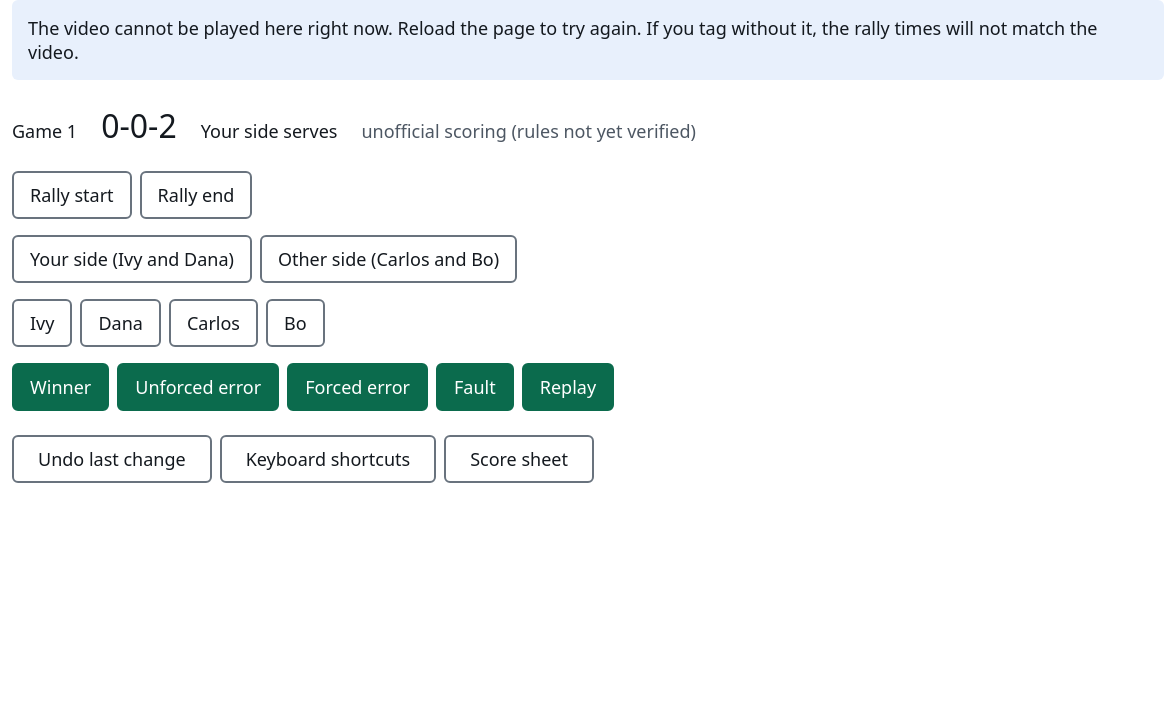
QuickTag (T-01) › a stale version shows the latest score and says the match changed
What coordinates should you click on to do the following:
click the button "Rally start"
I would click on:
 (72, 195)
Its box is [12, 171, 132, 219].
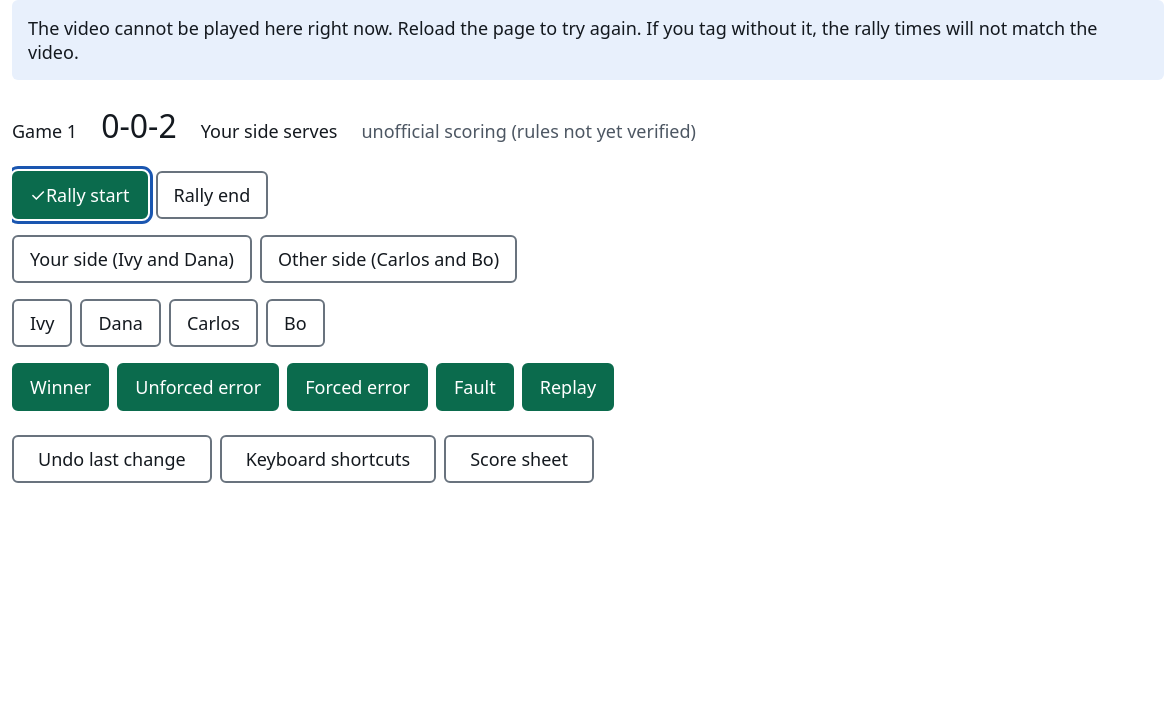
What coordinates should you click on to do the following:
click the button "Rally end"
I would click on:
 (212, 195)
Its box is [156, 171, 268, 219].
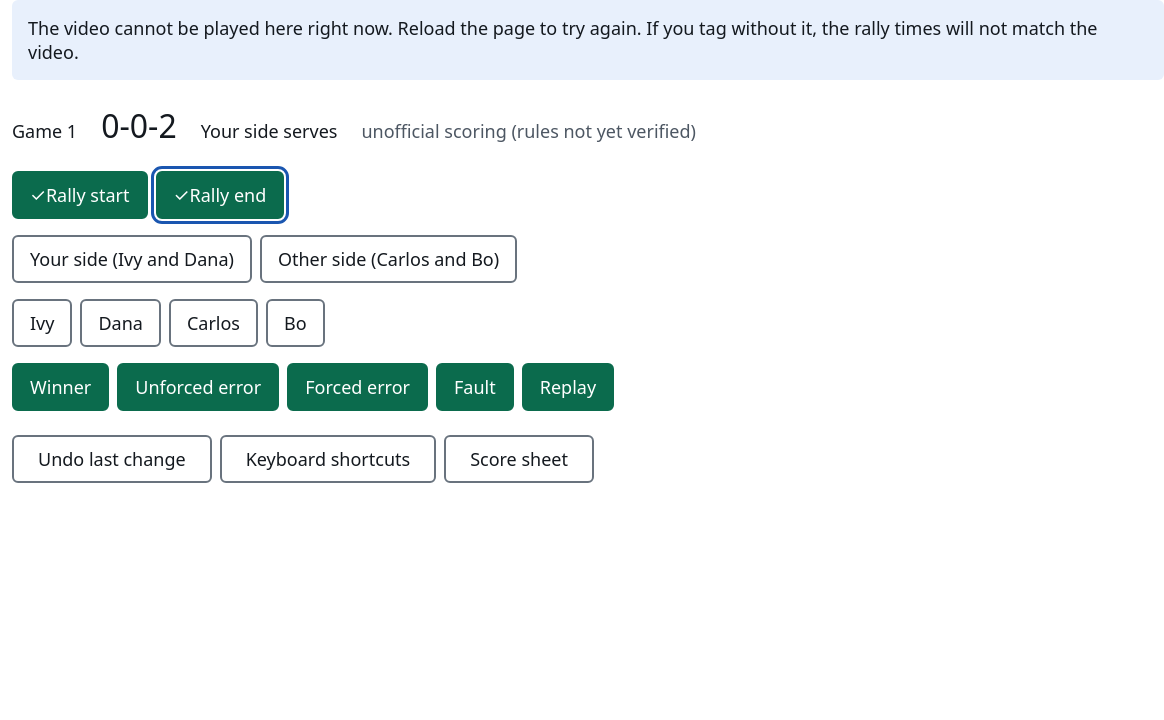
What coordinates should you click on to do the following:
click the button "Your side (Ivy and Dana)"
I would click on:
 (132, 259)
Its box is [12, 235, 252, 283].
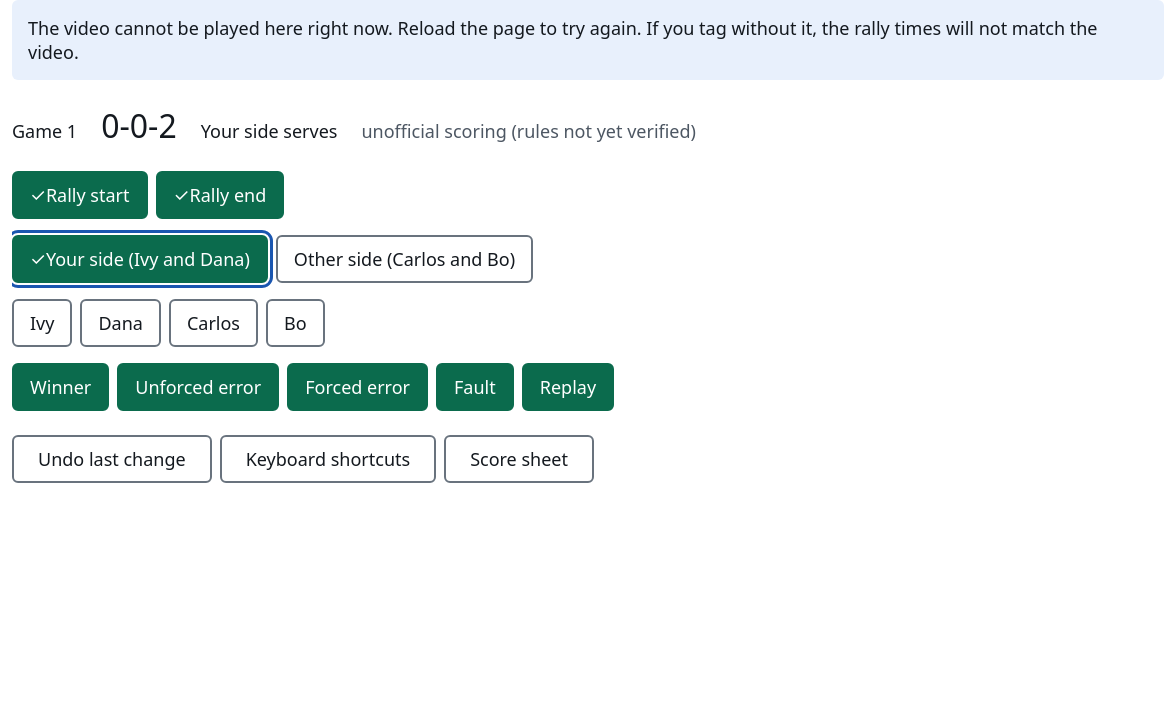
What coordinates should you click on to do the following:
click the button "Winner"
I would click on:
 (61, 387)
Its box is [12, 363, 109, 411].
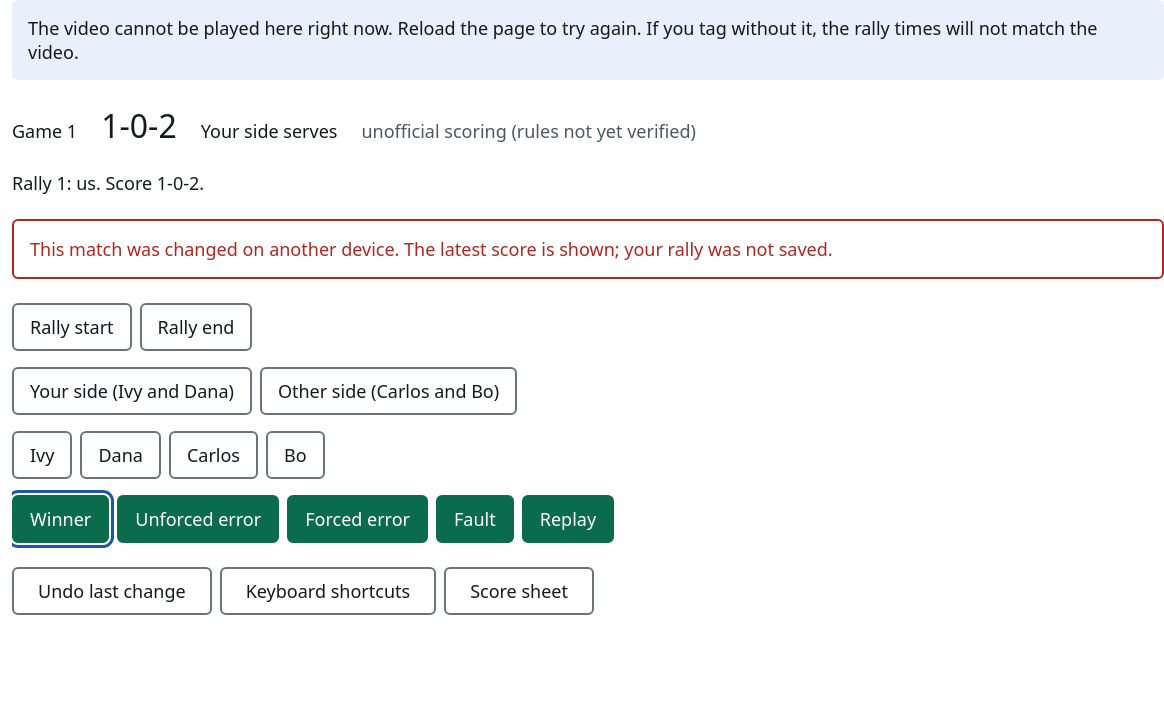
Expected: the text "changed on another device" is shown, [30, 237, 833, 261]
Expected: the text "1-0-2" is shown, [101, 104, 177, 147]
